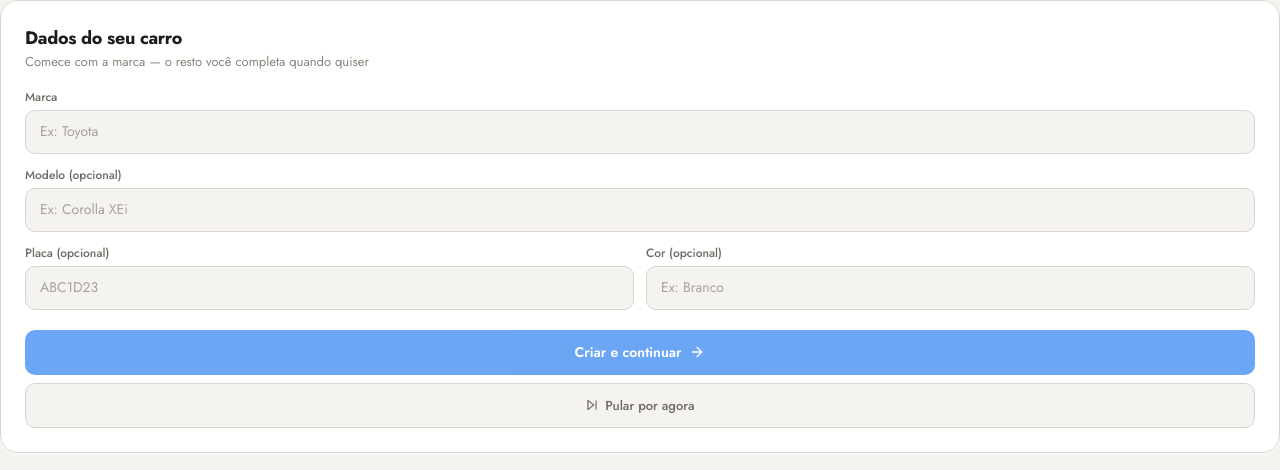
it: CarInfoStep › "Criar e continuar" disabled with marca empty; enabled once marca has at least 1 character
Expected: the button "Criar e continuar" is disabled, [25,330,1255,374]
Type "T" into the field labelled "Marca" at x=640, y=132, box [25,110,1255,154]
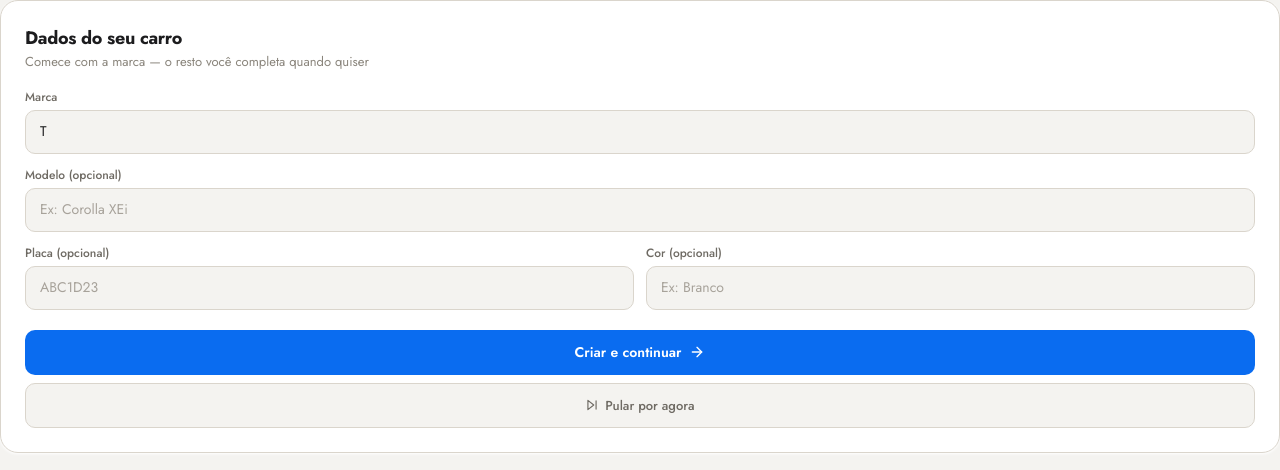
Result: the button "Criar e continuar" is enabled at [25,330,1255,374]
